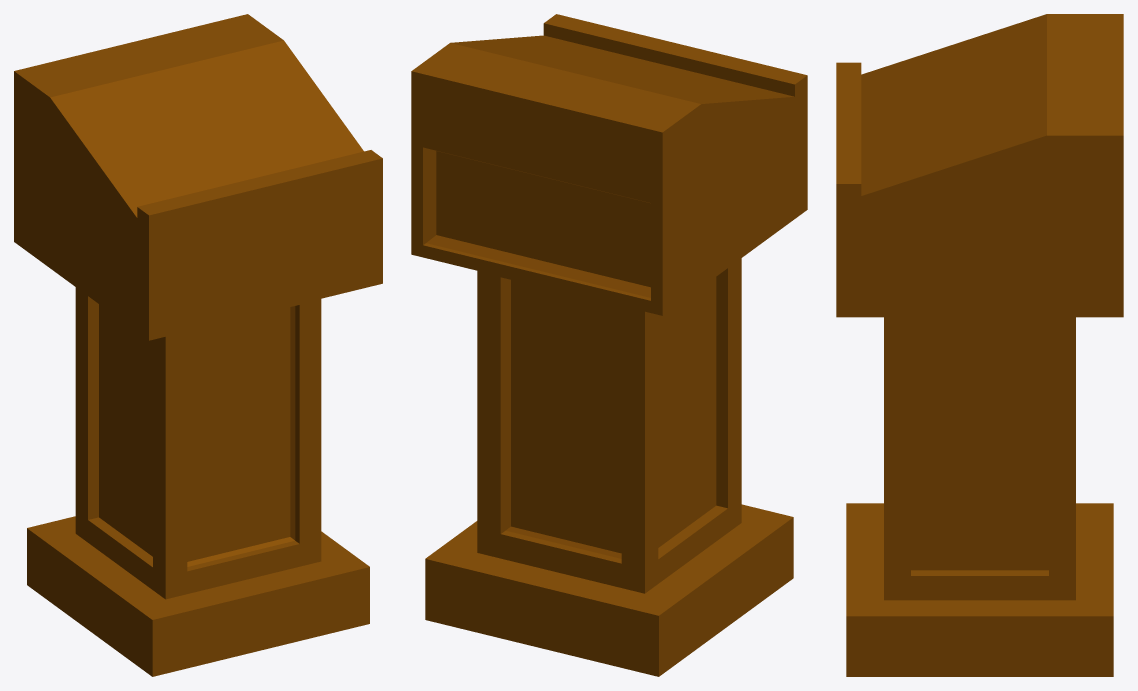
The model's file is Podium.fbx.
The picture shows the model from 3 angles, left to right: view 1: azimuth 30°, elevation 25°; view 2: azimuth 150°, elevation 25°; view 3: azimuth 270°, elevation 25°; orthographic projection. The views are drawn at different scales.
Visible parts, largest first — view 1: Cube; view 2: Cube; view 3: Cube.
Boxes of the visible parts, x1=… form: Cube: x1=14, y1=14, x2=382, y2=676; Cube: x1=411, y1=14, x2=807, y2=676; Cube: x1=836, y1=14, x2=1123, y2=676.
Bounding box in the file's own units: 215 × 450 × 215.
